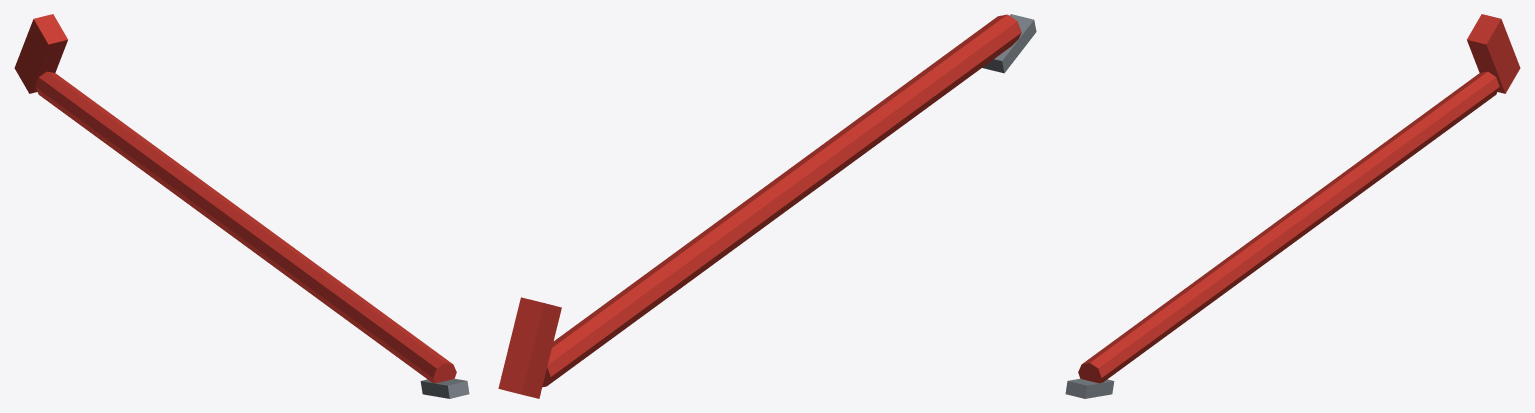
Rendered from crowbar.glb.
The picture shows the model from 3 angles, left to right: view 1: azimuth 30°, elevation 25°; view 2: azimuth 150°, elevation 25°; view 3: azimuth 330°, elevation 25°; orthographic projection. The views are drawn at different scales.
Parts seen in each view (by area): view 1: crowbar_Body; view 2: crowbar_Body; view 3: crowbar_Body.
Part boxes in pixels (box(x1,y1,x2,y2)): crowbar_Body: box(14, 14, 469, 398); crowbar_Body: box(498, 14, 1036, 398); crowbar_Body: box(1065, 14, 1520, 398).
Size of the model in its own units: 0.024 by 0.088 by 0.7656.
